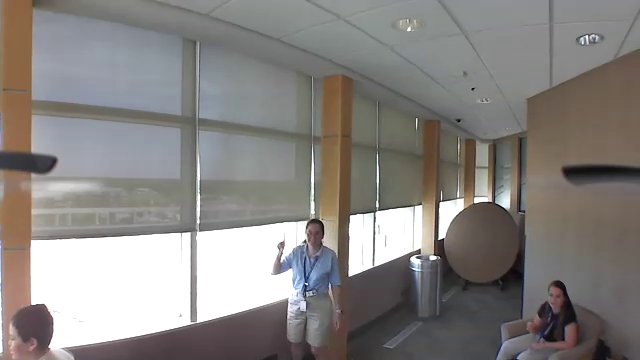up: (276, 227, 293, 251)
